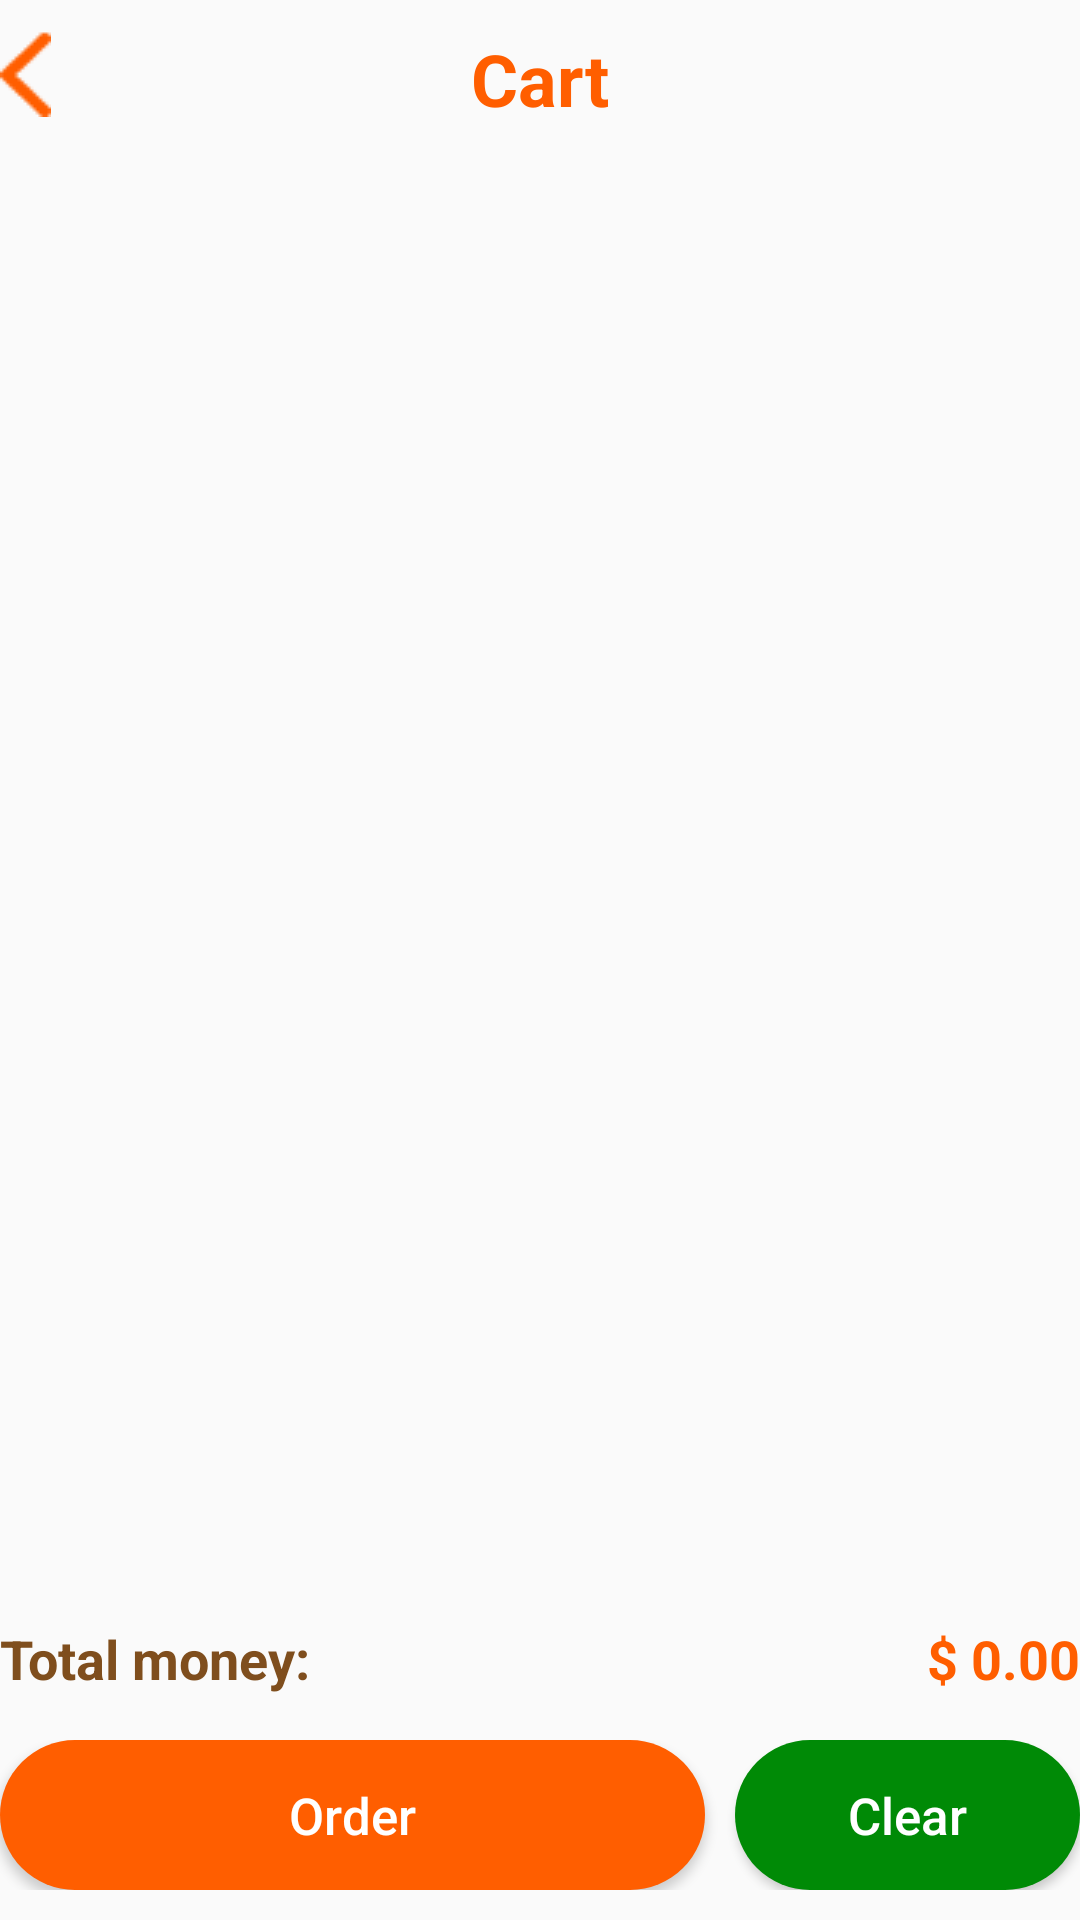

Screen size 1080w x 1920h. Icon name, then its center in pixels as (x,y):
back: (25,74)
